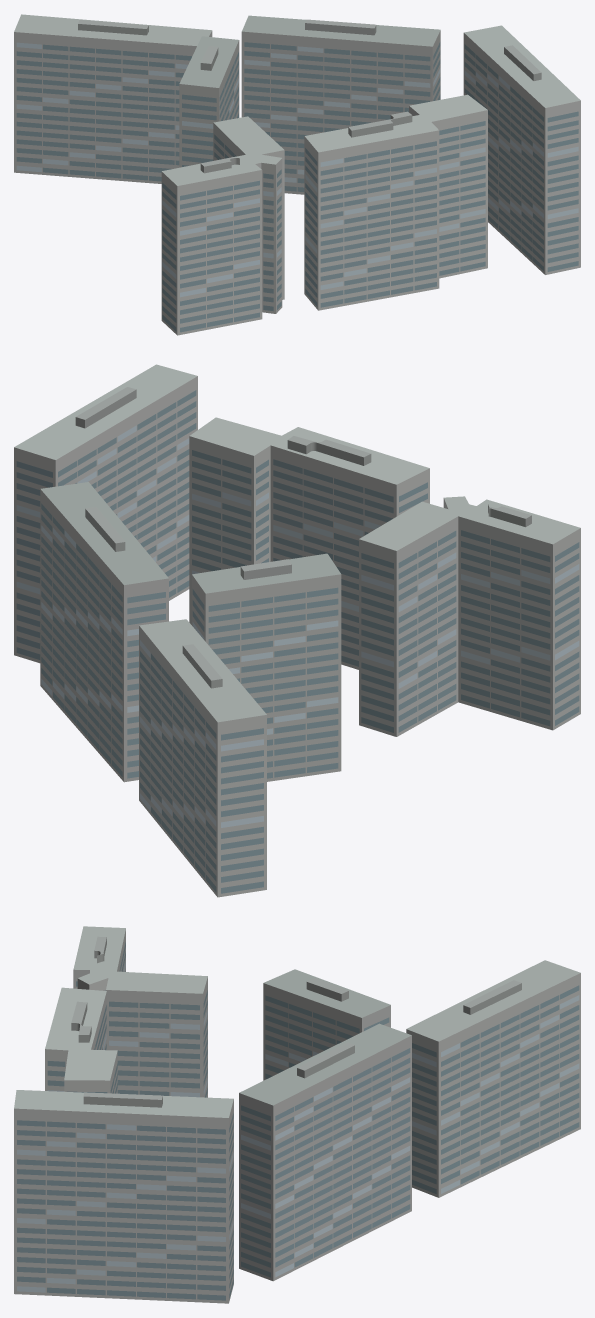
File: apt-a13480403.glb
3 views of the same model, one above another, from view 1: azimuth 30°, elevation 25°; view 2: azimuth 150°, elevation 25°; view 3: azimuth 270°, elevation 25° (orthographic). The views are drawn at different scales.
Visible parts, largest first — view 1: apt-a13480403; view 2: apt-a13480403; view 3: apt-a13480403.
Part boxes in pixels (bbox=[...]): apt-a13480403: bbox=[14, 14, 580, 335]; apt-a13480403: bbox=[14, 364, 580, 897]; apt-a13480403: bbox=[14, 926, 580, 1303].
Size of the model in its own units: 142 by 60.35 by 160.
